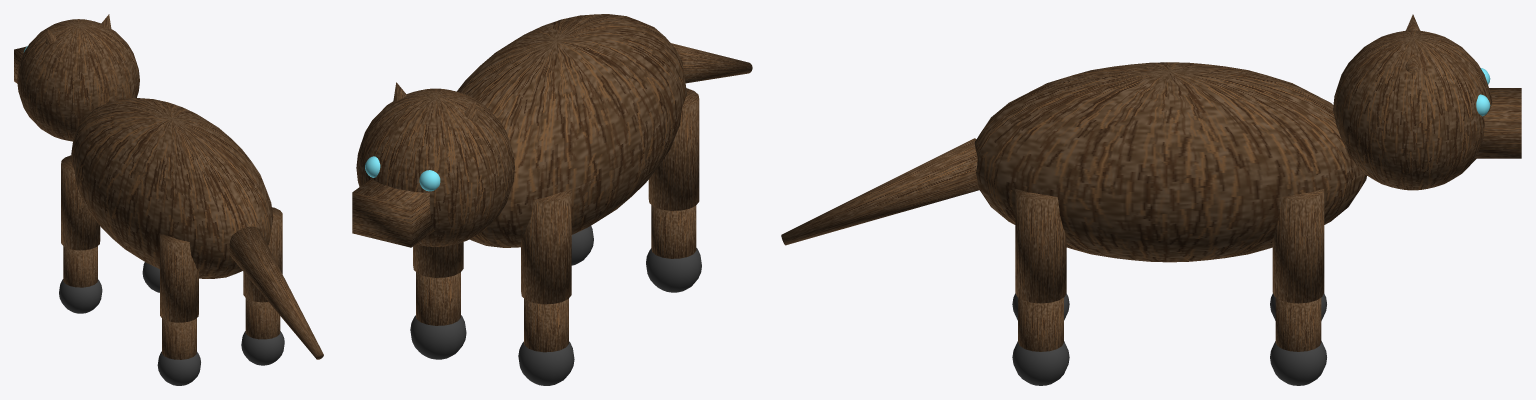
File: salamander.glb
The picture shows the model from 3 angles, left to right: view 1: azimuth 30°, elevation 25°; view 2: azimuth 150°, elevation 25°; view 3: azimuth 270°, elevation 25°; orthographic projection. The views are drawn at different scales.
Visible parts, largest first — view 1: Body, Head, Tail, LegUpper, LegUpper.001, LegLower, LegLower.001, LegLower.002, Paw.001, Paw.002, Paw, LegUpper.002 (+1 smaller); view 2: Body, Head, LegUpper.001, Snout, LegUpper, LegLower, LegLower.003, LegLower.001, Paw, Paw.003, Tail, Paw.001 (+3 smaller); view 3: Body, Head, Tail, LegUpper.003, LegUpper.002, Snout, LegLower.003, LegLower.002, Paw.003, Paw.002.
Part boxes in pixels (x1,y1,x2,y2): Body: (70,98,273,278); Head: (17,19,139,141); Tail: (229,226,323,359); LegUpper: (160,233,198,322); LegUpper.001: (61,155,100,250); LegLower: (162,318,196,359); LegLower.001: (63,246,97,287); LegLower.002: (245,298,280,339); Paw.001: (59,279,102,313); Paw.002: (241,331,284,365); Paw: (157,351,200,385); LegUpper.002: (243,207,282,302); Body: (457,14,686,247); Head: (356,88,514,246); LegUpper.001: (521,189,571,304); Snout: (352,178,434,247); LegUpper: (648,88,699,210); LegLower: (651,205,696,258); LegLower.003: (416,272,460,325); LegLower.001: (524,298,568,352); Paw: (646,248,701,292); Paw.003: (410,315,466,359); Tail: (671,43,752,83); Paw.001: (518,341,574,385); Body: (974,62,1366,262); Head: (1333,30,1492,190); Tail: (781,138,979,245); LegUpper.003: (1272,189,1324,303); LegUpper.002: (1015,189,1066,303); Snout: (1474,88,1521,158); LegLower.003: (1275,297,1321,351); LegLower.002: (1018,297,1063,351); Paw.003: (1270,341,1326,385); Paw.002: (1012,341,1069,385).
Bounding box in the file's own units: 0.5535 × 0.986 × 2.05.
3 materials, 1 textured.
